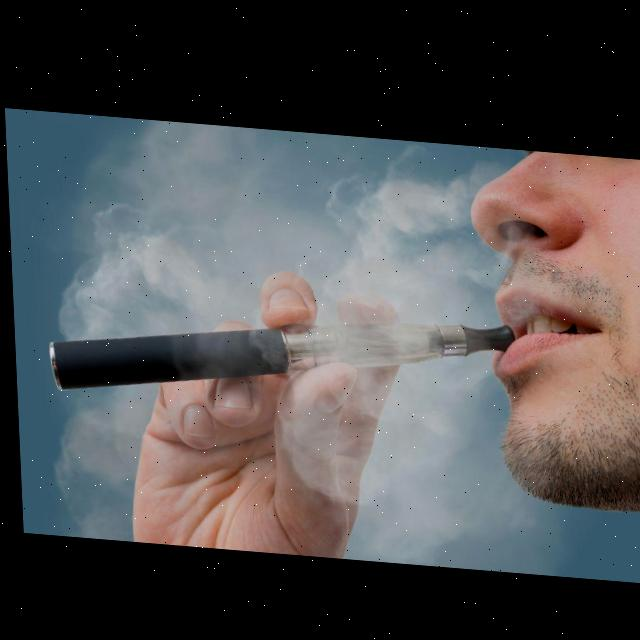vape: (43, 287, 517, 419)
